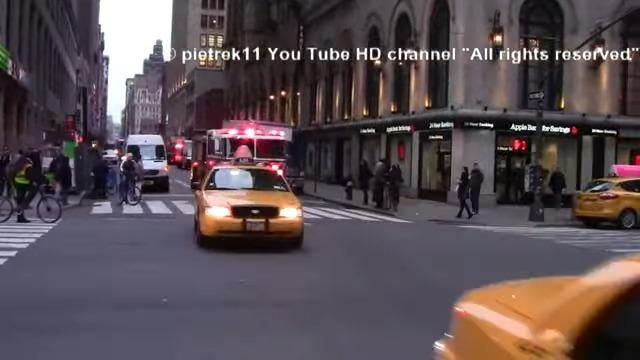Fire-engine: (189, 118, 298, 191)
